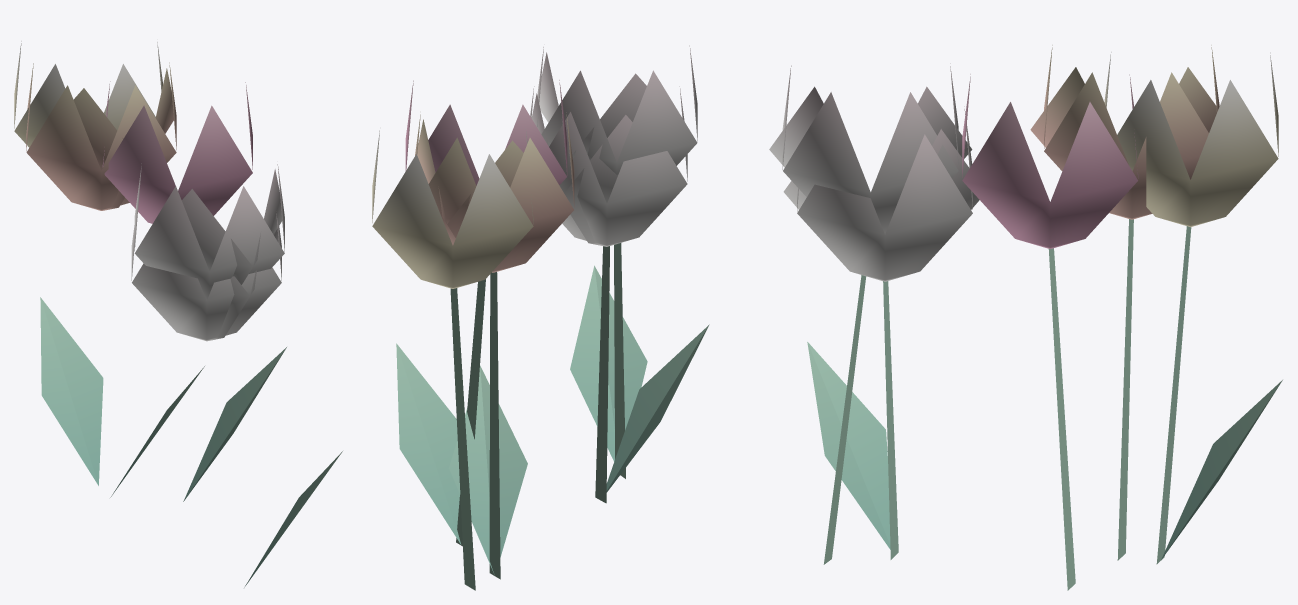
File: tulip_patch.glb
3 renders of one model, left to right at view 1: azimuth 30°, elevation 25°; view 2: azimuth 150°, elevation 25°; view 3: azimuth 270°, elevation 25°, orthographic. The views are drawn at different scales.
Visible parts, largest first — view 1: near, far; view 2: near, far; view 3: near, far.
Boxes of the visible parts, box(x1,y1,x2,y2) form: near: box(14, 41, 342, 587); far: box(73, 68, 282, 341); near: box(372, 45, 709, 590); far: box(417, 52, 646, 272); near: box(782, 45, 1282, 590); far: box(769, 67, 1218, 209).
Bounding box in the file's own units: 0.2019 × 0.3901 × 0.3755.
